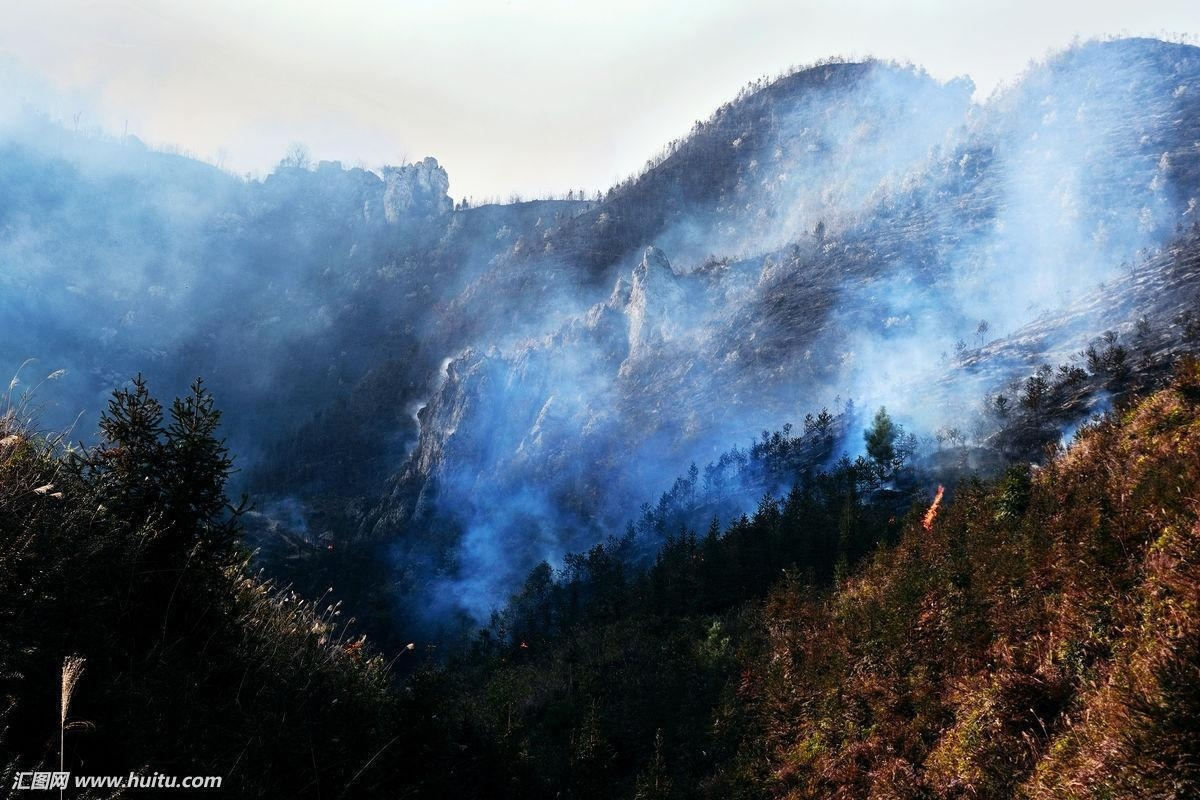fire: (915, 482, 948, 528)
